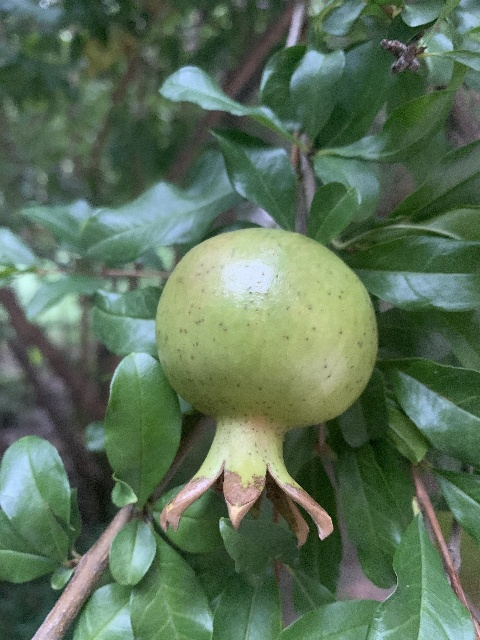mid-growth: (153, 228, 379, 543)
